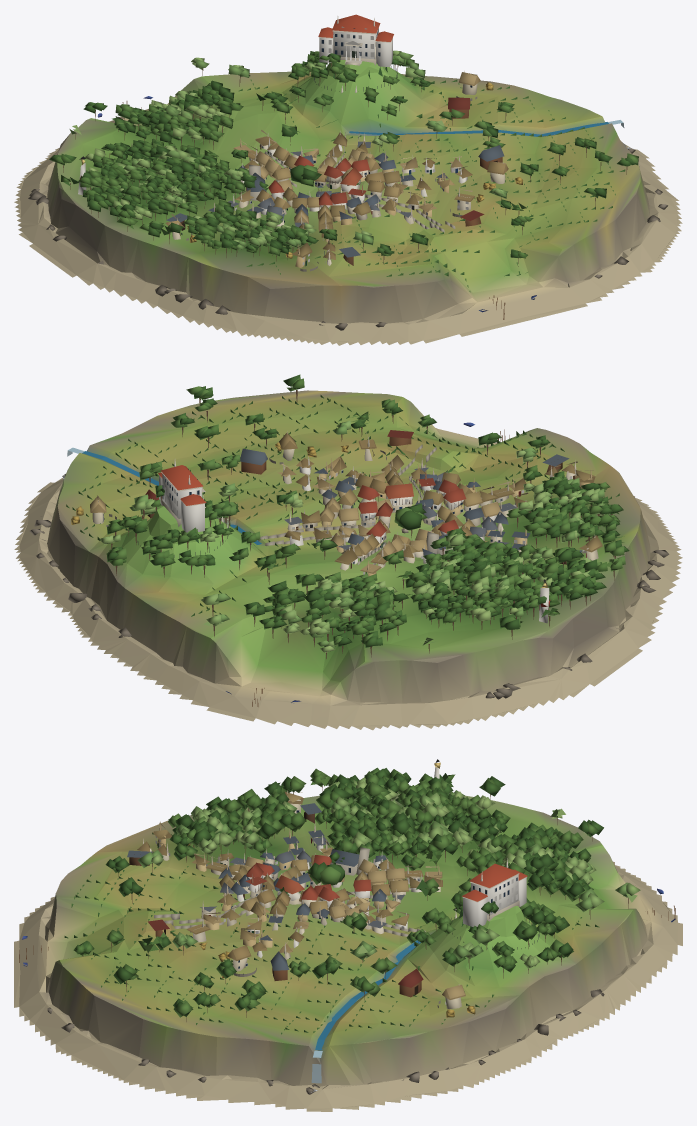
The picture shows the model from 3 angles, top to bottom: view 1: azimuth 30°, elevation 25°; view 2: azimuth 150°, elevation 25°; view 3: azimuth 270°, elevation 25°; orthographic projection. The views are drawn at different scales.
Parts seen in each view (by area): view 1: BASE, VILLE_2, VILLE_3, VILLE_4; view 2: BASE, VILLE_2, VILLE_3, VILLE_4; view 3: BASE, VILLE_2, VILLE_3.
Part boxes in pixels (x1,y1,x2,y2): BASE: [14, 14, 682, 345]; VILLE_2: [49, 57, 606, 312]; VILLE_3: [165, 131, 463, 265]; VILLE_4: [78, 130, 472, 195]; BASE: [14, 386, 682, 730]; VILLE_2: [139, 374, 625, 694]; VILLE_3: [277, 455, 602, 576]; VILLE_4: [296, 456, 550, 623]; BASE: [14, 767, 682, 1111]; VILLE_2: [22, 768, 675, 999]; VILLE_3: [137, 790, 442, 959].
Size of the model in its own units: 66 by 14.87 by 64.
